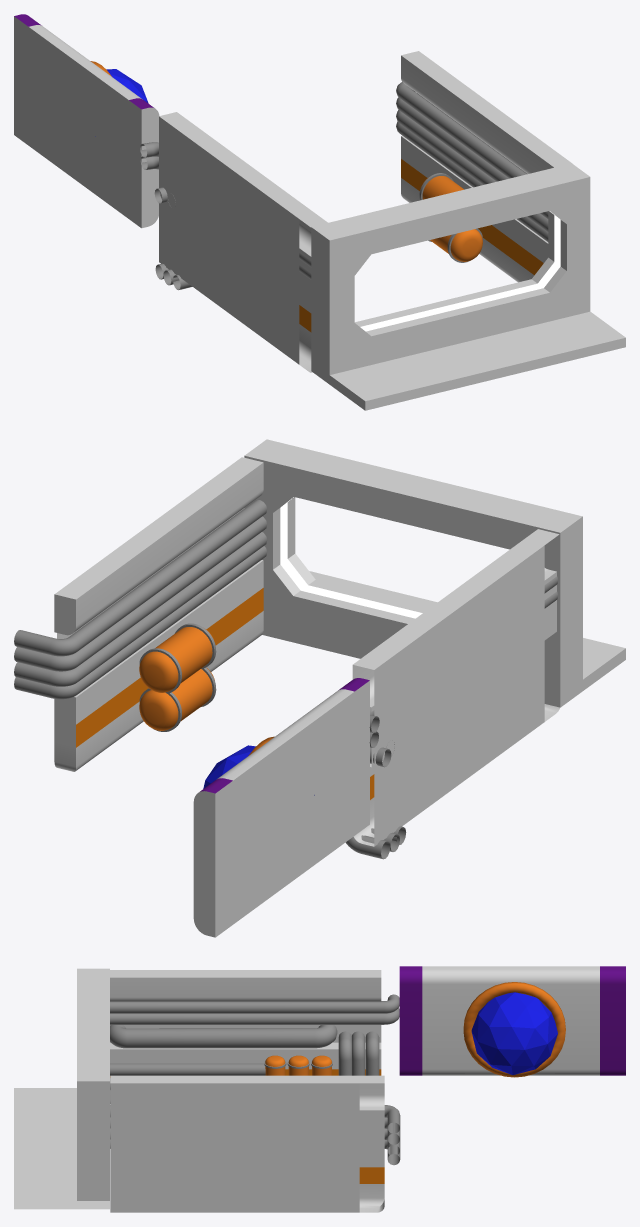
The model's file is connectorTEST.glb.
3 renders of one model, top to bottom at view 1: azimuth 30°, elevation 25°; view 2: azimuth 150°, elevation 25°; view 3: azimuth 270°, elevation 25°, orthographic. The views are drawn at different scales.
Visible parts, largest first — view 1: Cube.033, Plane.017, Cube.174, Plane.026, Plane.016, Plane.014, Plane.013, Plane.015, Cylinder.017, Cylinder.019; view 2: Plane.017, Cube.033, Cube.174, Plane.026, Plane.016, Plane.014, Plane.013, Cylinder.019, Plane.015, Cylinder.017, Vert.021; view 3: Plane.026, Cube.174, Cube.033, Plane.017, Icosphere.002, Vert.025, Plane.018, Plane.019, Circle.052, Plane.028, Vert.021, Vert.023 (+5 smaller).
Part boxes in pixels (x1=…): Cube.033: x1=311, y1=163, x2=625, y2=410; Plane.017: x1=159, y1=112, x2=327, y2=372; Cube.174: x1=14, y1=14, x2=159, y2=228; Plane.026: x1=401, y1=51, x2=572, y2=282; Plane.016: x1=396, y1=82, x2=526, y2=178; Plane.014: x1=396, y1=110, x2=548, y2=231; Plane.013: x1=396, y1=92, x2=548, y2=218; Plane.015: x1=396, y1=121, x2=548, y2=241; Cylinder.017: x1=428, y1=228, x2=482, y2=262; Cylinder.019: x1=419, y1=173, x2=463, y2=200; Plane.017: x1=352, y1=529, x2=559, y2=846; Cube.033: x1=244, y1=439, x2=625, y2=707; Cube.174: x1=193, y1=678, x2=369, y2=937; Plane.026: x1=54, y1=457, x2=263, y2=771; Plane.016: x1=14, y1=500, x2=267, y2=656; Plane.014: x1=14, y1=532, x2=267, y2=686; Plane.013: x1=14, y1=516, x2=267, y2=671; Cylinder.019: x1=139, y1=623, x2=216, y2=693; Plane.015: x1=14, y1=546, x2=267, y2=699; Cylinder.017: x1=139, y1=667, x2=216, y2=731; Vert.021: x1=345, y1=747, x2=391, y2=859; Plane.026: x1=110, y1=1075, x2=384, y2=1212; Cube.174: x1=399, y1=966, x2=625, y2=1075; Cube.033: x1=14, y1=968, x2=109, y2=1209; Plane.017: x1=110, y1=970, x2=381, y2=1103; Icosphere.002: x1=471, y1=992, x2=557, y2=1074; Vert.025: x1=110, y1=1025, x2=337, y2=1048; Plane.018: x1=110, y1=994, x2=399, y2=1013; Plane.019: x1=110, y1=1008, x2=399, y2=1024; Circle.052: x1=463, y1=982, x2=565, y2=1077; Plane.028: x1=110, y1=1063, x2=265, y2=1075; Vert.021: x1=365, y1=1031, x2=379, y2=1075; Vert.023: x1=338, y1=1031, x2=351, y2=1075.
Bounding box in the file's own units: 32.92 × 17.03 × 66.75.
